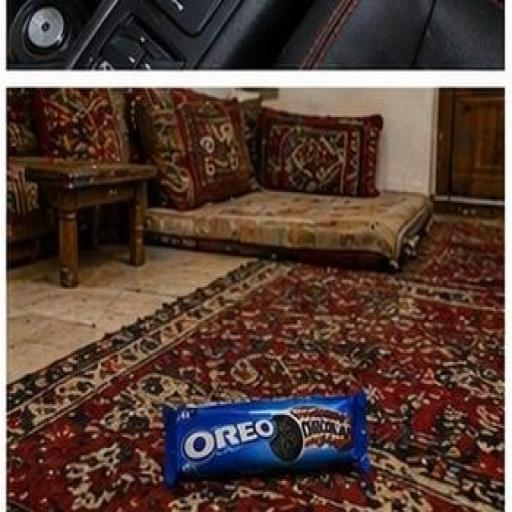oreo: (119, 346, 418, 512)
